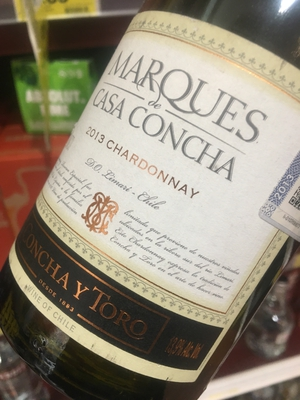marques de casa concha chardonnay: (18, 28, 300, 396)
